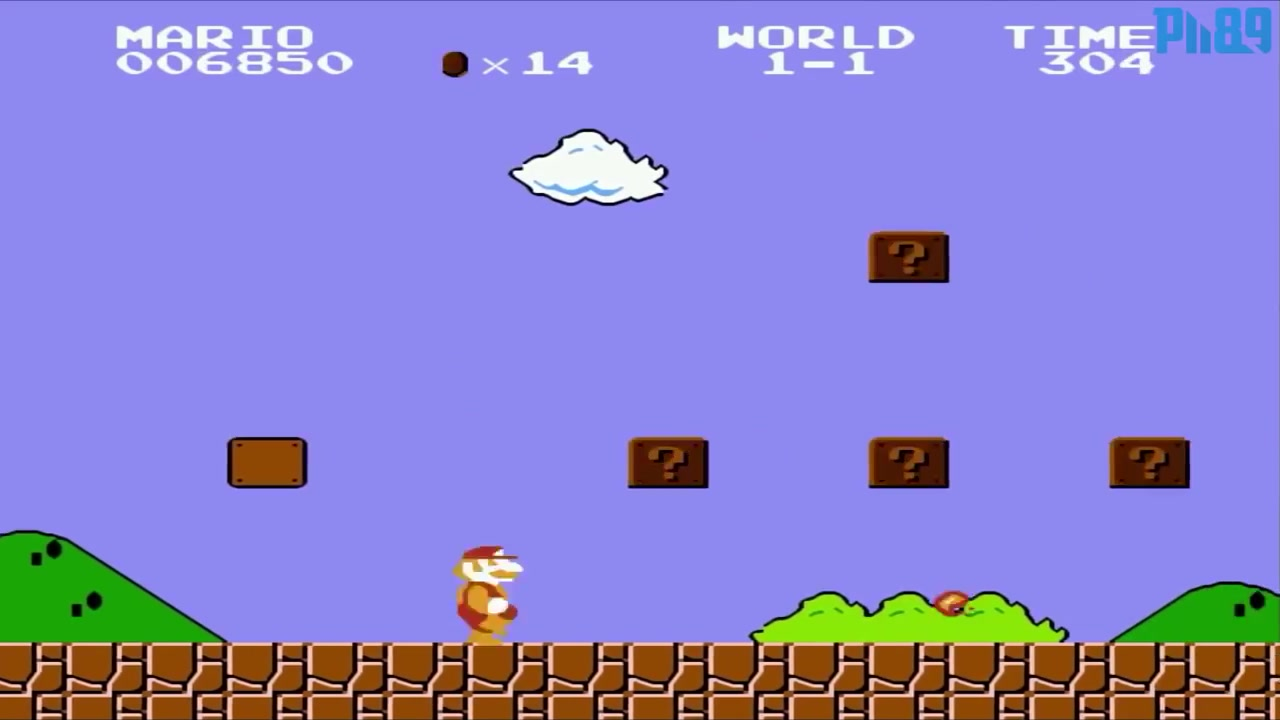mario: (438, 533, 534, 646)
